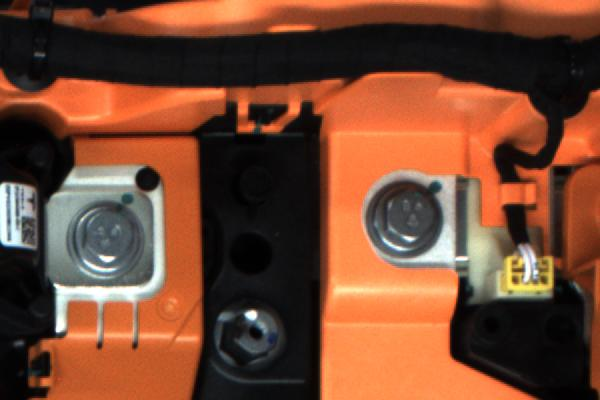nut_b: (68, 198, 154, 282), (358, 179, 440, 264)
